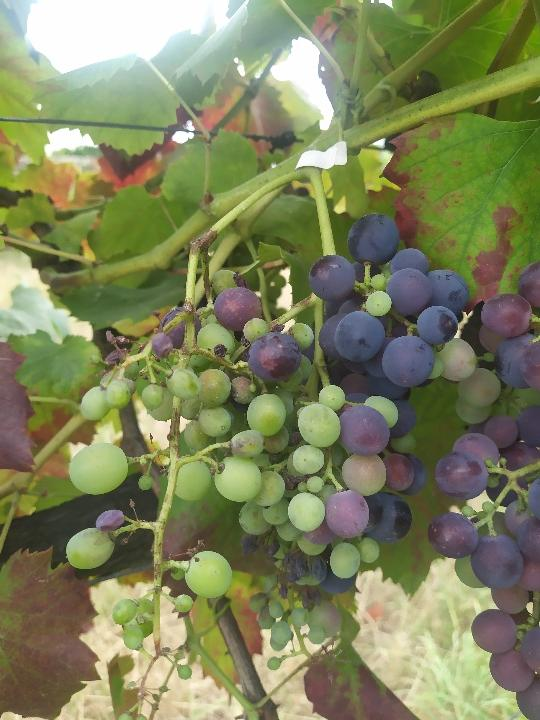grape: (233, 207, 474, 615), (61, 262, 263, 683)
